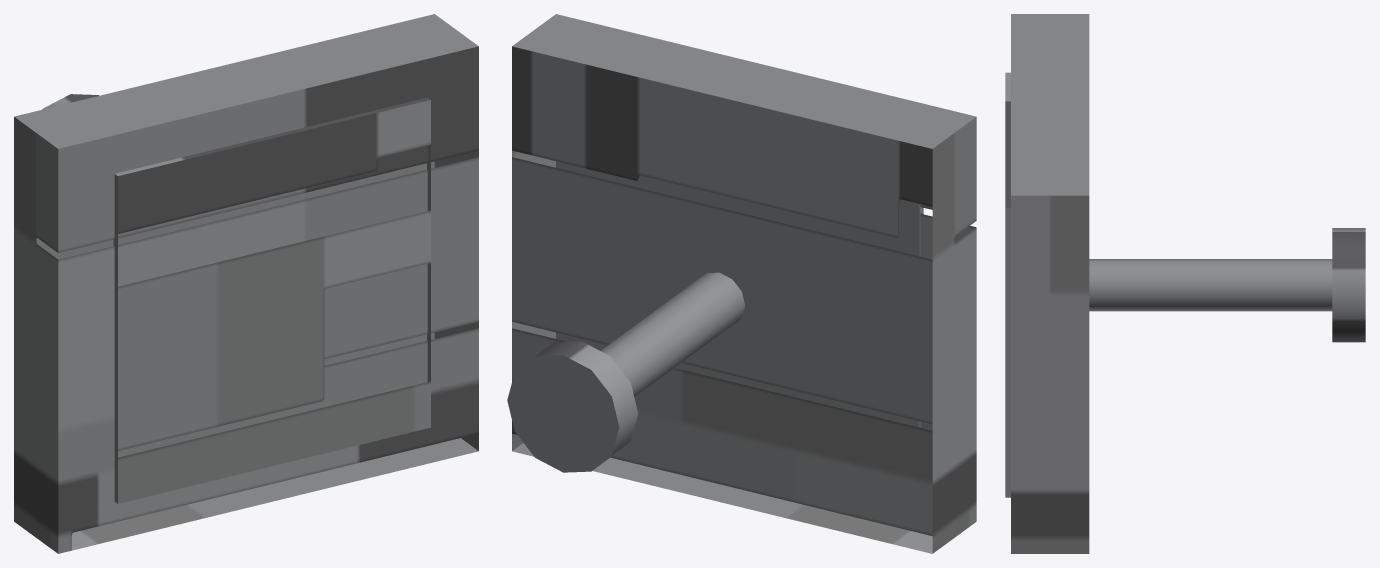
3 views of the same model, side by side, from view 1: azimuth 30°, elevation 25°; view 2: azimuth 150°, elevation 25°; view 3: azimuth 270°, elevation 25° (orthographic). The views are drawn at different scales.
Size of the model in its own units: 0.972 by 0.8942 by 0.8154.
